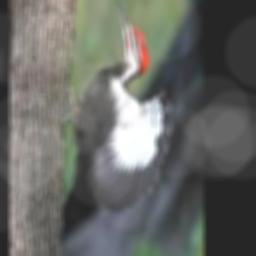Woodpecker: (64, 0, 172, 215)
